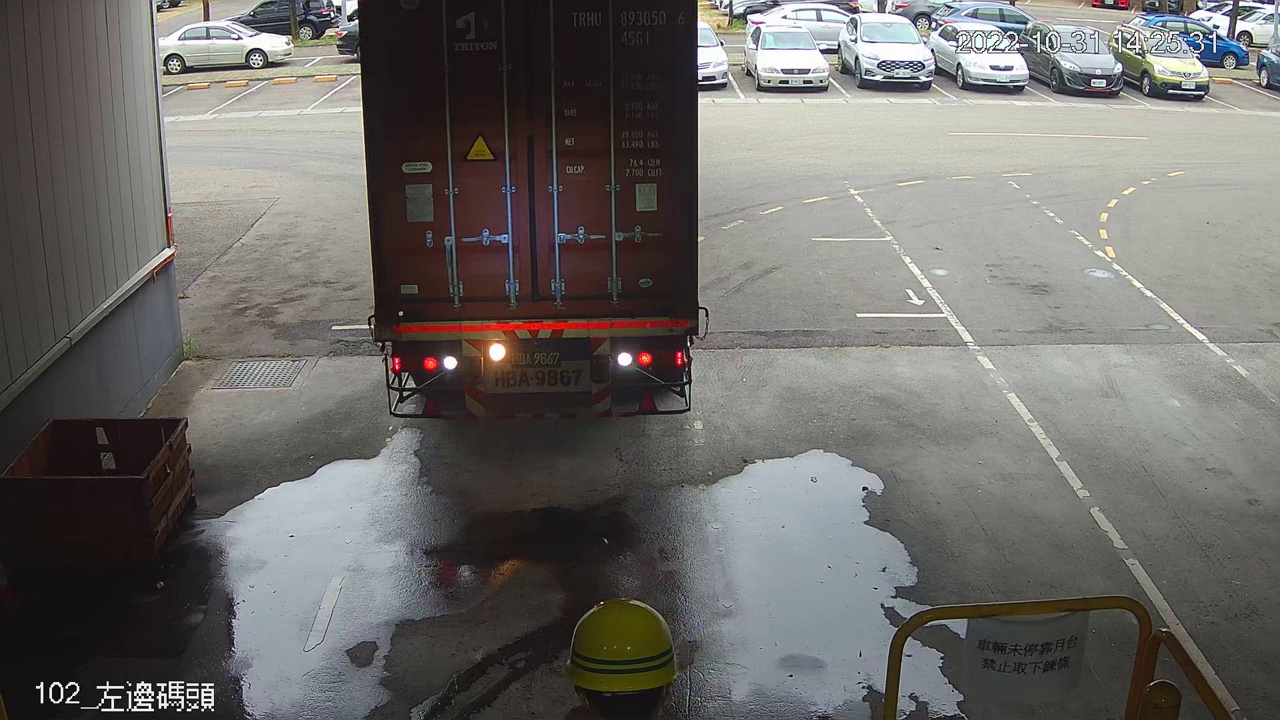container: (566, 5, 689, 51)
